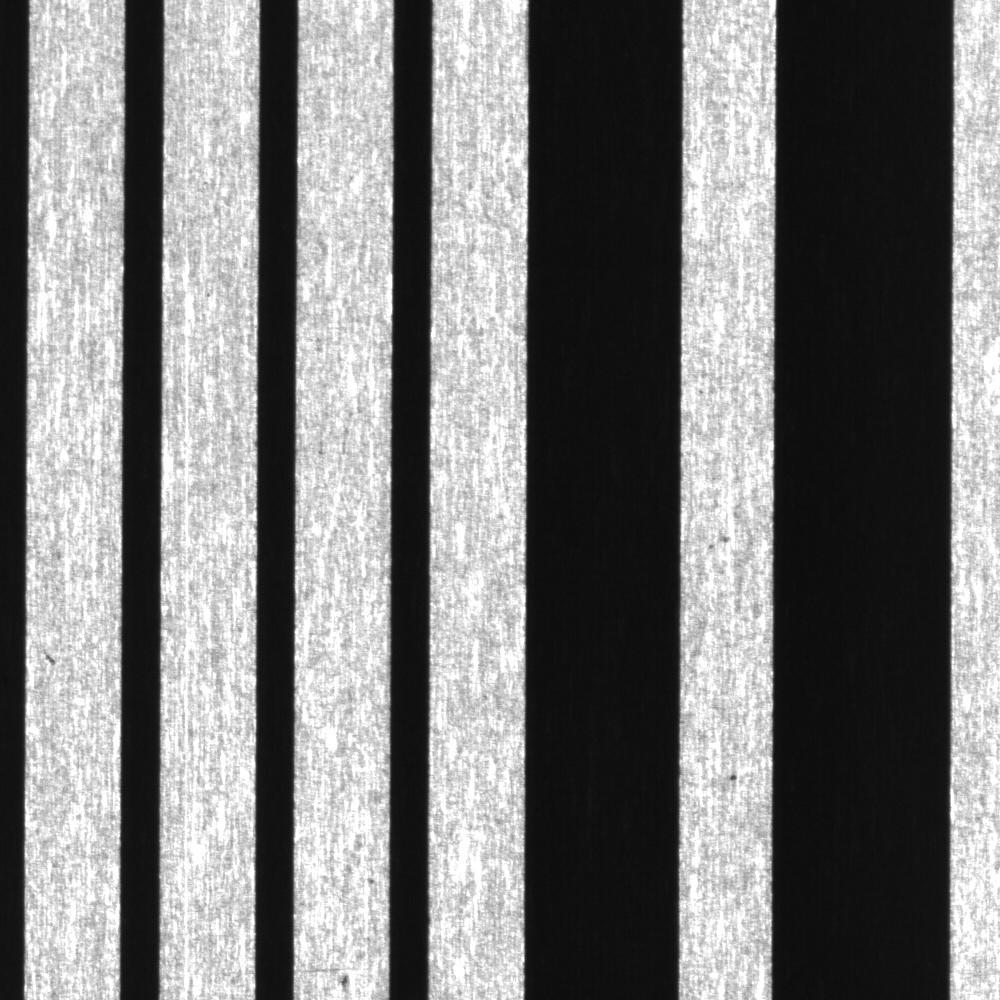Etching: (31, 636, 66, 679), (703, 526, 736, 556), (339, 966, 358, 996)
Pinhole: (721, 766, 745, 788)
Scar: (295, 955, 369, 978)
